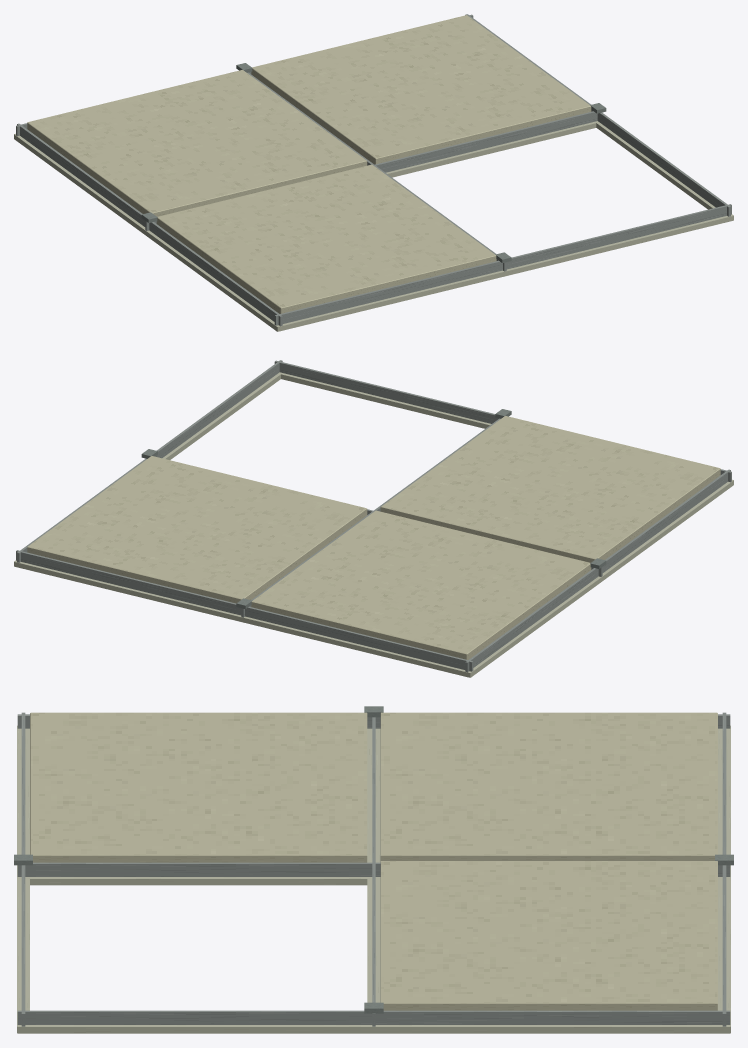
File: suspended_ceiling_missing_tile.glb
3 renders of one model, top to bottom at view 1: azimuth 30°, elevation 25°; view 2: azimuth 150°, elevation 25°; view 3: azimuth 270°, elevation 25°, orthographic. The views are drawn at different scales.
Parts seen in each view (by area): view 1: suspended_ceiling_missing_tile; view 2: suspended_ceiling_missing_tile; view 3: suspended_ceiling_missing_tile.
Boxes of the visible parts, x1=… form: suspended_ceiling_missing_tile: x1=14, y1=14, x2=733, y2=331; suspended_ceiling_missing_tile: x1=14, y1=360, x2=733, y2=677; suspended_ceiling_missing_tile: x1=14, y1=706, x2=733, y2=1033.
Size of the model in its own units: 1.2 by 0.0465 by 1.21.
Materials: 4 (4 with a texture image).
